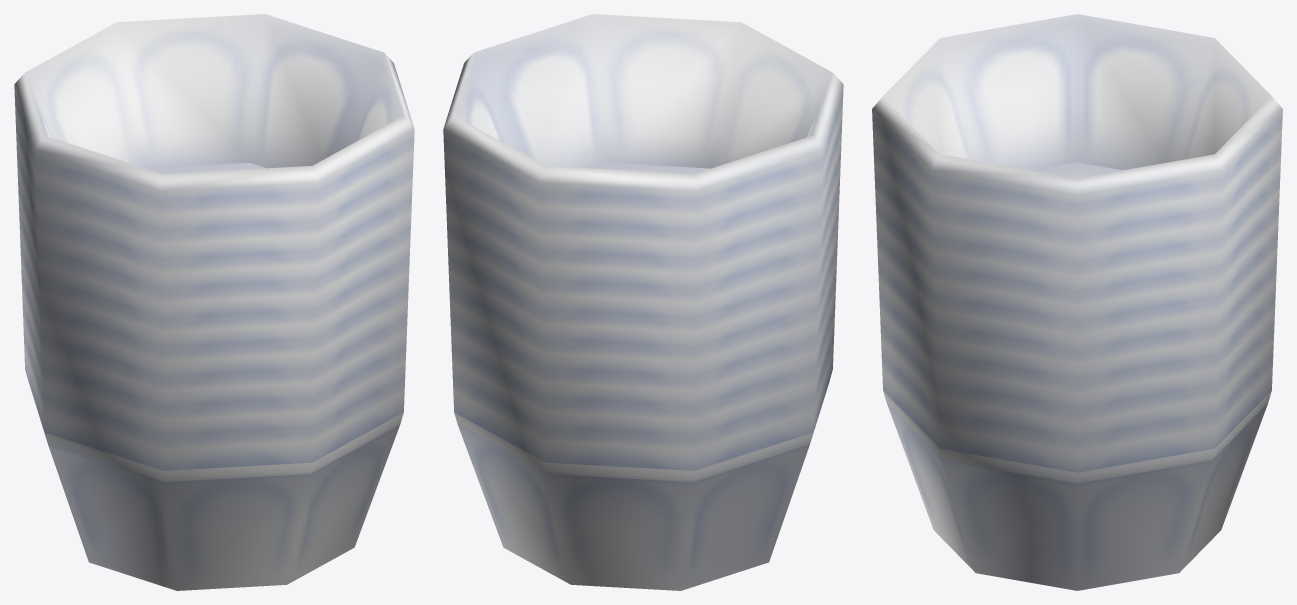
The model's file is jsf_ShavedIceCup_01_Set02.fbx.
3 views of the same model, side by side, from view 1: azimuth 30°, elevation 25°; view 2: azimuth 150°, elevation 25°; view 3: azimuth 270°, elevation 25° (orthographic).
Parts seen in each view (by area): view 1: jsf_ShavedIceCup_01_Set02; view 2: jsf_ShavedIceCup_01_Set02; view 3: jsf_ShavedIceCup_01_Set02.
Part boxes in pixels (x1=…): jsf_ShavedIceCup_01_Set02: x1=14, y1=14, x2=414, y2=590; jsf_ShavedIceCup_01_Set02: x1=443, y1=14, x2=843, y2=590; jsf_ShavedIceCup_01_Set02: x1=872, y1=14, x2=1282, y2=590.
Size of the model in its own units: 12 by 13.98 by 12.
